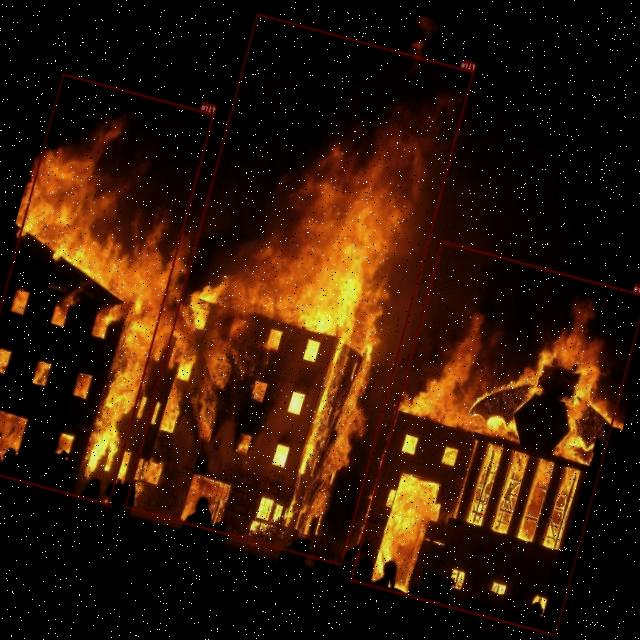fire: (124, 12, 474, 565), (350, 239, 640, 635), (0, 72, 215, 505)
